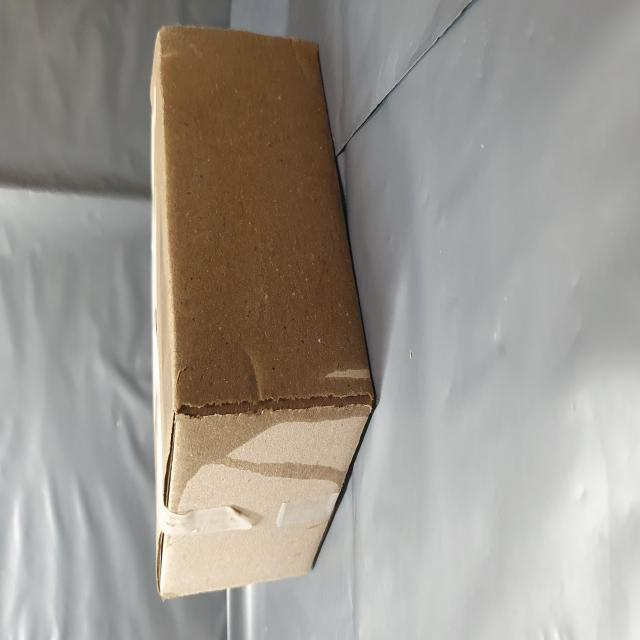wet: (91, 272, 354, 634)
